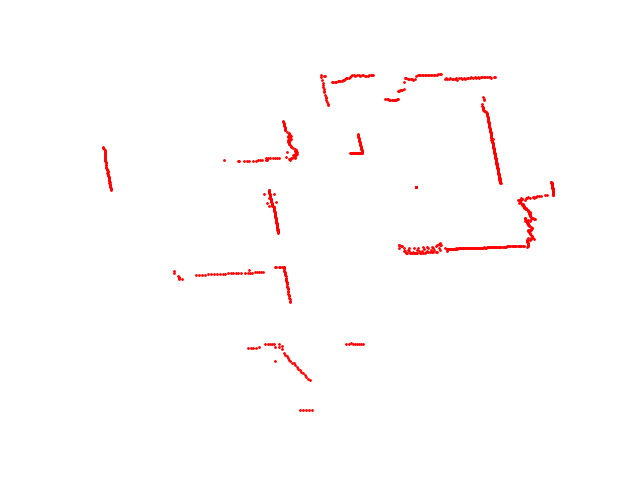person: (382, 87, 409, 103)
